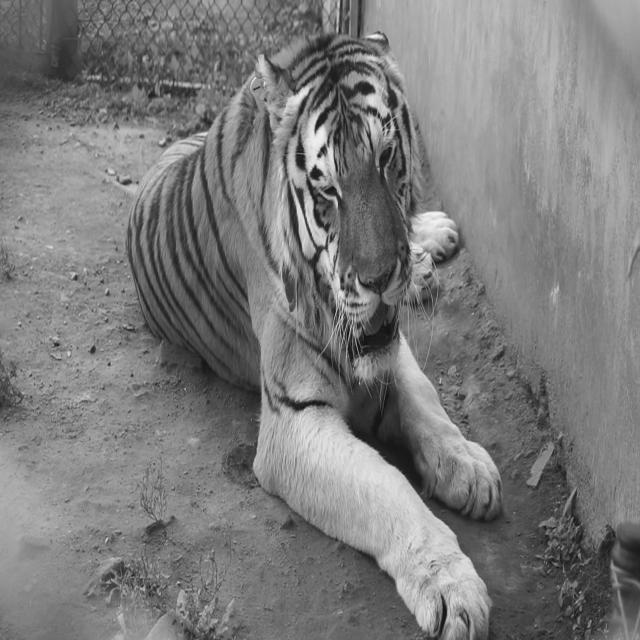Tiger: (125, 28, 504, 638)
